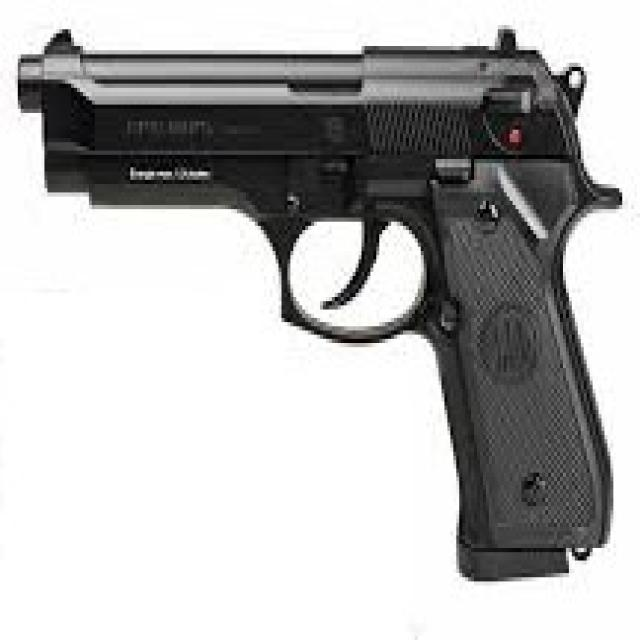pistol: (9, 17, 628, 595)
